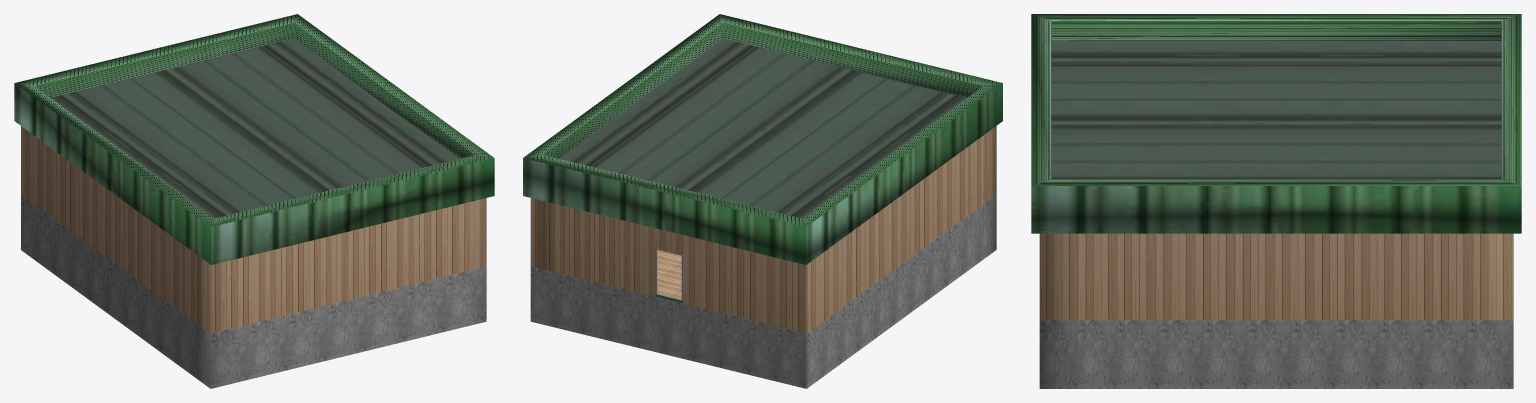
The model's file is Bank.glb.
3 renders of one model, left to right at view 1: azimuth 30°, elevation 25°; view 2: azimuth 150°, elevation 25°; view 3: azimuth 270°, elevation 25°, orthographic. The views are drawn at different scales.
Parts seen in each view (by area): view 1: Bank; view 2: Bank; view 3: Bank.
Part boxes in pixels (x1,y1,x2,y2): Bank: (14, 14, 494, 388); Bank: (523, 14, 1002, 388); Bank: (1031, 14, 1521, 388).
Bounding box in the file's own units: 15.59 × 8.68 × 18.76.
Materials: 2 (1 with a texture image).
